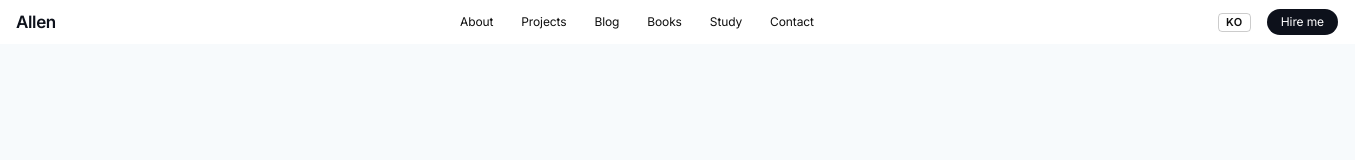
Scenario: Language toggle in GlobalNav › clicking toggle shows EN label (locale switched to ko)
Click the button with aria-label "Switch to Korean".
click(1234, 22)  # box [1218,12,1251,32]
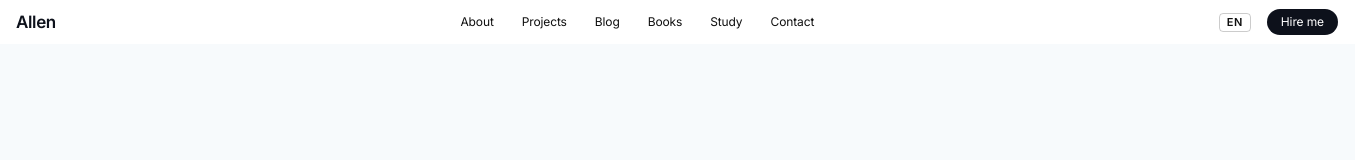
Result: the button with aria-label "Switch to English" reads "EN" at [1219,12,1251,32]
